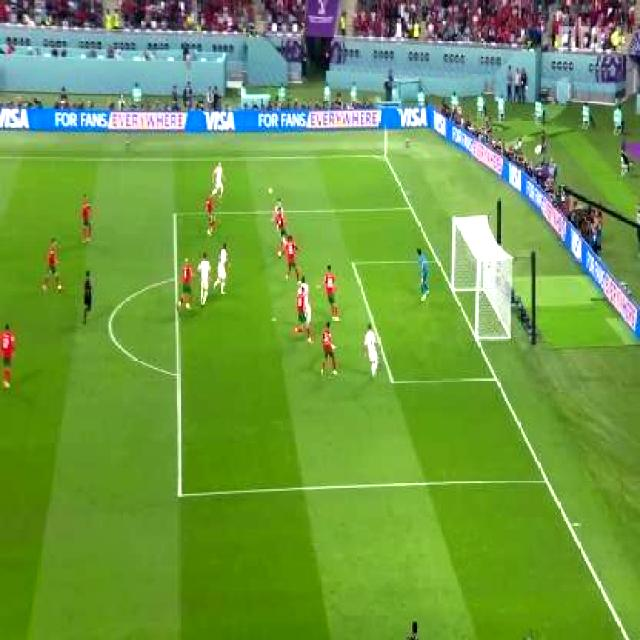bigarea_bottom_inner: (168, 479, 190, 506)
bigarea_bottom_outter: (535, 468, 554, 492)
bigarea_top_inner: (166, 203, 182, 223)
bigarea_top_outter: (403, 198, 417, 216)
bottom_arc_area_intersection: (168, 363, 185, 386)
corner: (376, 149, 392, 163)
smallarea_bottom_inner: (380, 364, 402, 396)
smallarea_bottom_outter: (484, 363, 504, 391)
smallarea_top_inner: (345, 251, 360, 272)
smallarea_top_outter: (429, 249, 446, 271)
top_arc_area_intersection: (166, 264, 185, 288)
